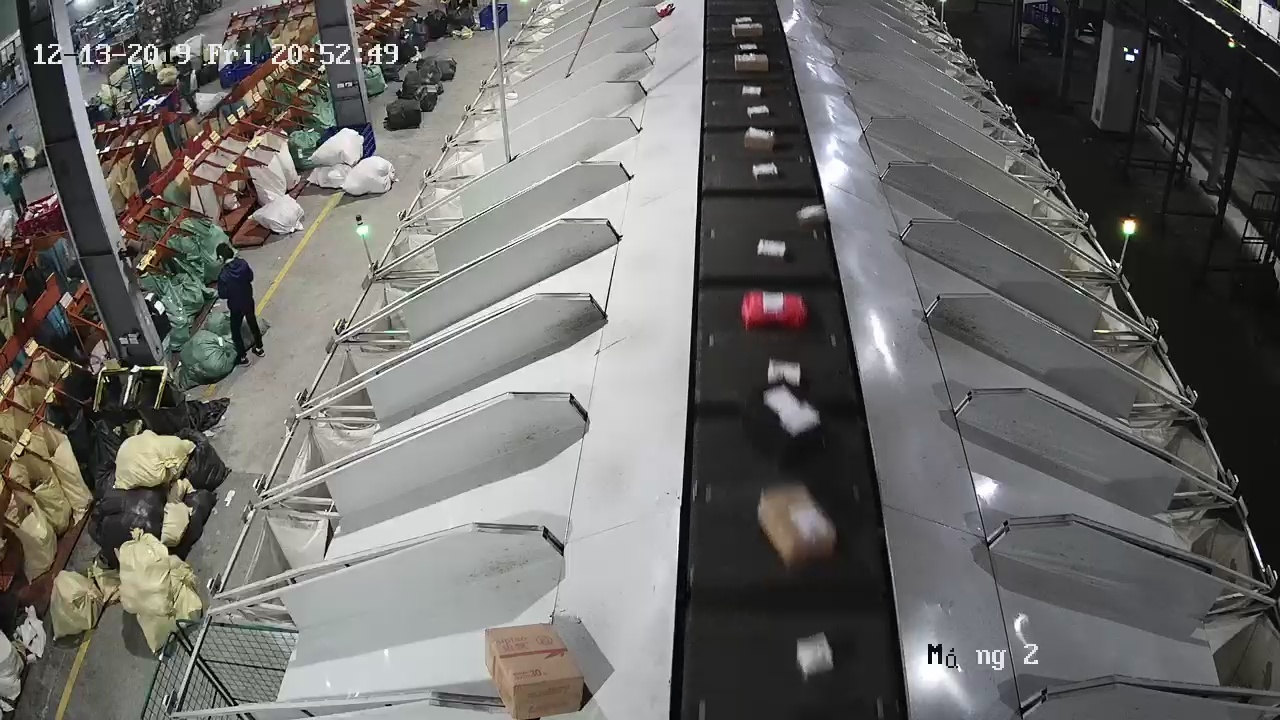parcel: (795, 201, 829, 229)
